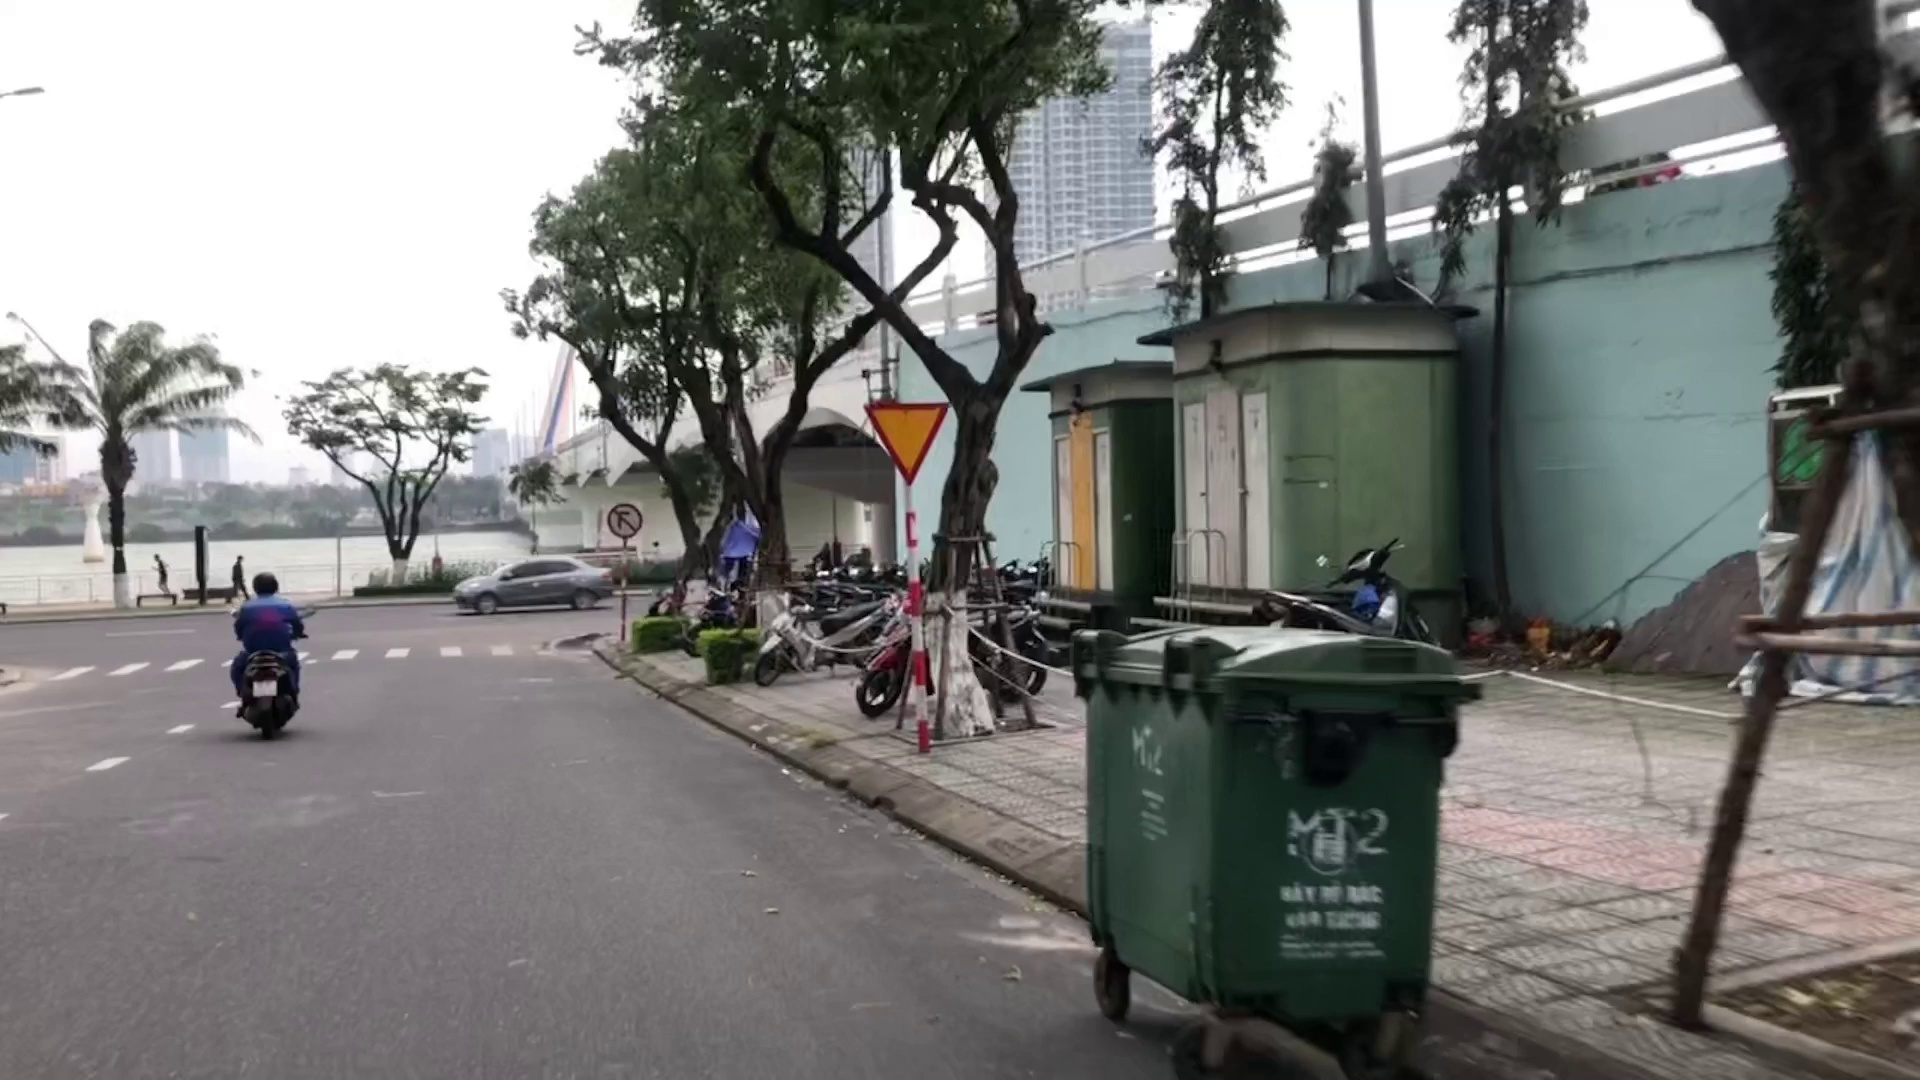Bien khac: (862, 400, 949, 480), (607, 501, 646, 541)
